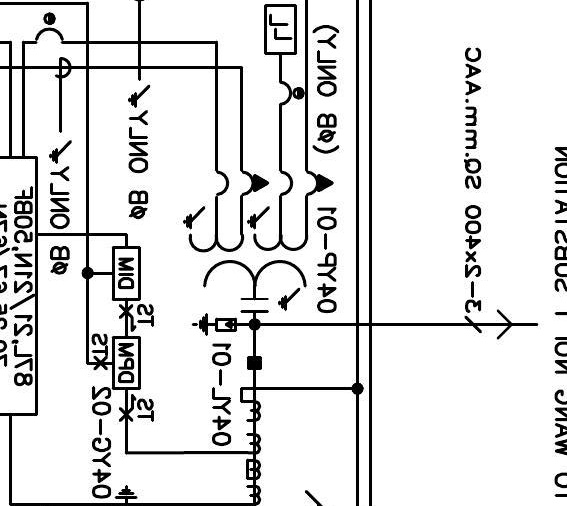115_cvt_1p: (182, 168, 334, 314)
115_la: (191, 312, 237, 337)
DIM: (111, 246, 141, 301)
DPM: (112, 336, 141, 390)
LL: (263, 4, 297, 55)
